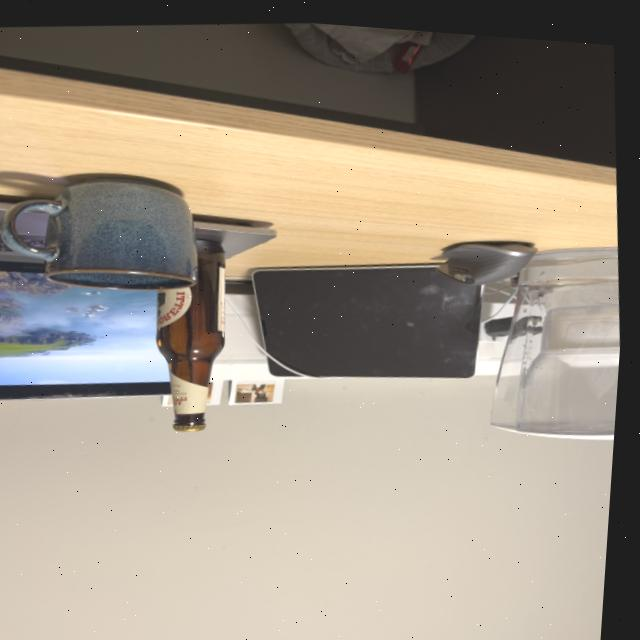beer: (142, 216, 249, 441)
